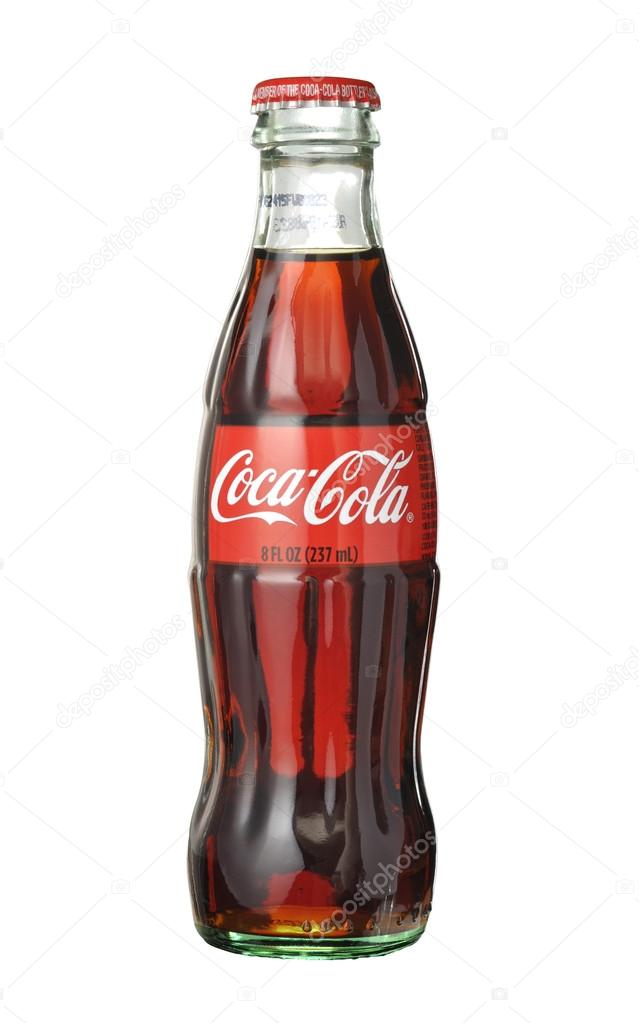coca_cola_bottle: (198, 76, 437, 949)
